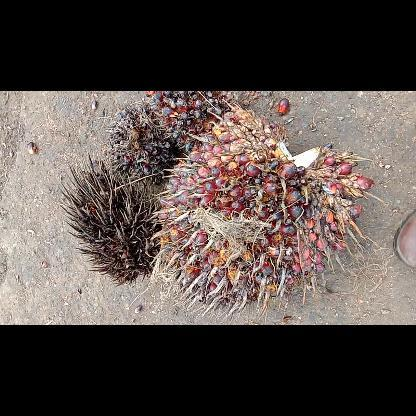Janjang kosong: (53, 151, 160, 287)
TBS abnormal: (102, 103, 180, 187), (146, 92, 232, 154)
TBS masak: (150, 107, 376, 319)
